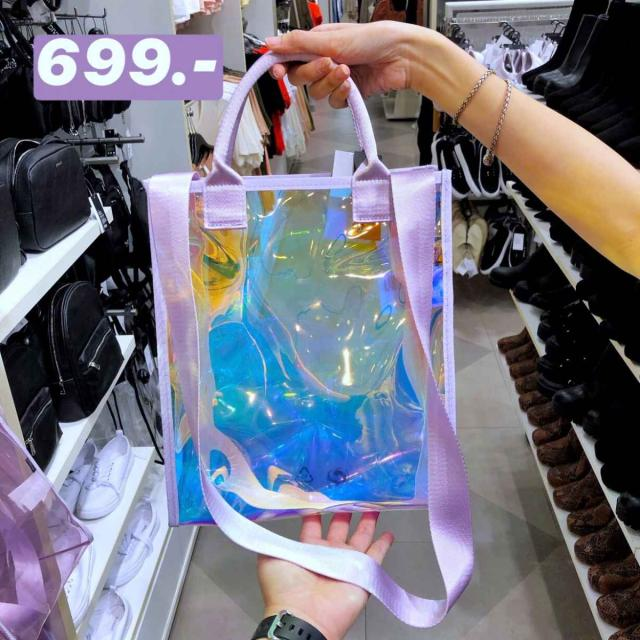handbag: (140, 143, 453, 536)
